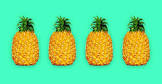Pineapple: (121, 16, 151, 66), (48, 14, 76, 66), (11, 15, 39, 66), (85, 15, 113, 66)
